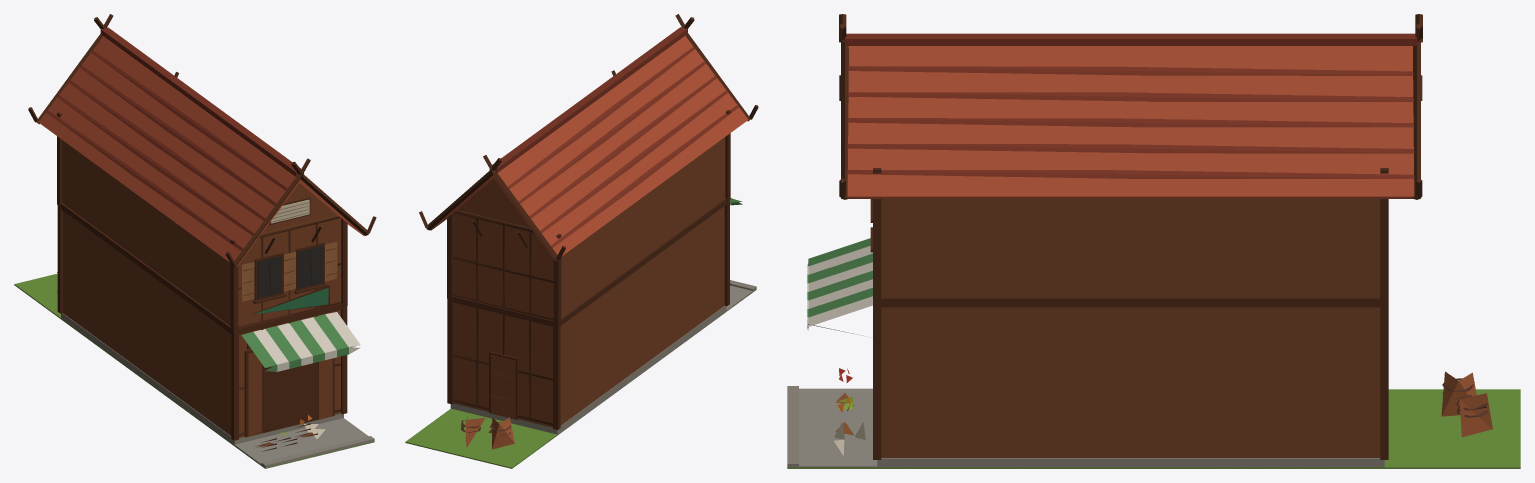
Rendered from bay1_mid2.glb.
3 renders of one model, left to right at view 1: azimuth 30°, elevation 25°; view 2: azimuth 150°, elevation 25°; view 3: azimuth 270°, elevation 25°, orthographic. The views are drawn at different scales.
Parts seen in each view (by area): view 1: body, windows; view 2: body; view 3: body.
Boxes of the visible parts, x1,y1,x2,y2 form: body: (14,14,376,468); windows: (257,245,323,298); body: (405,14,758,468); body: (787,14,1520,468).
Size of the model in its own units: 5.52 by 9.87 by 15.9.
